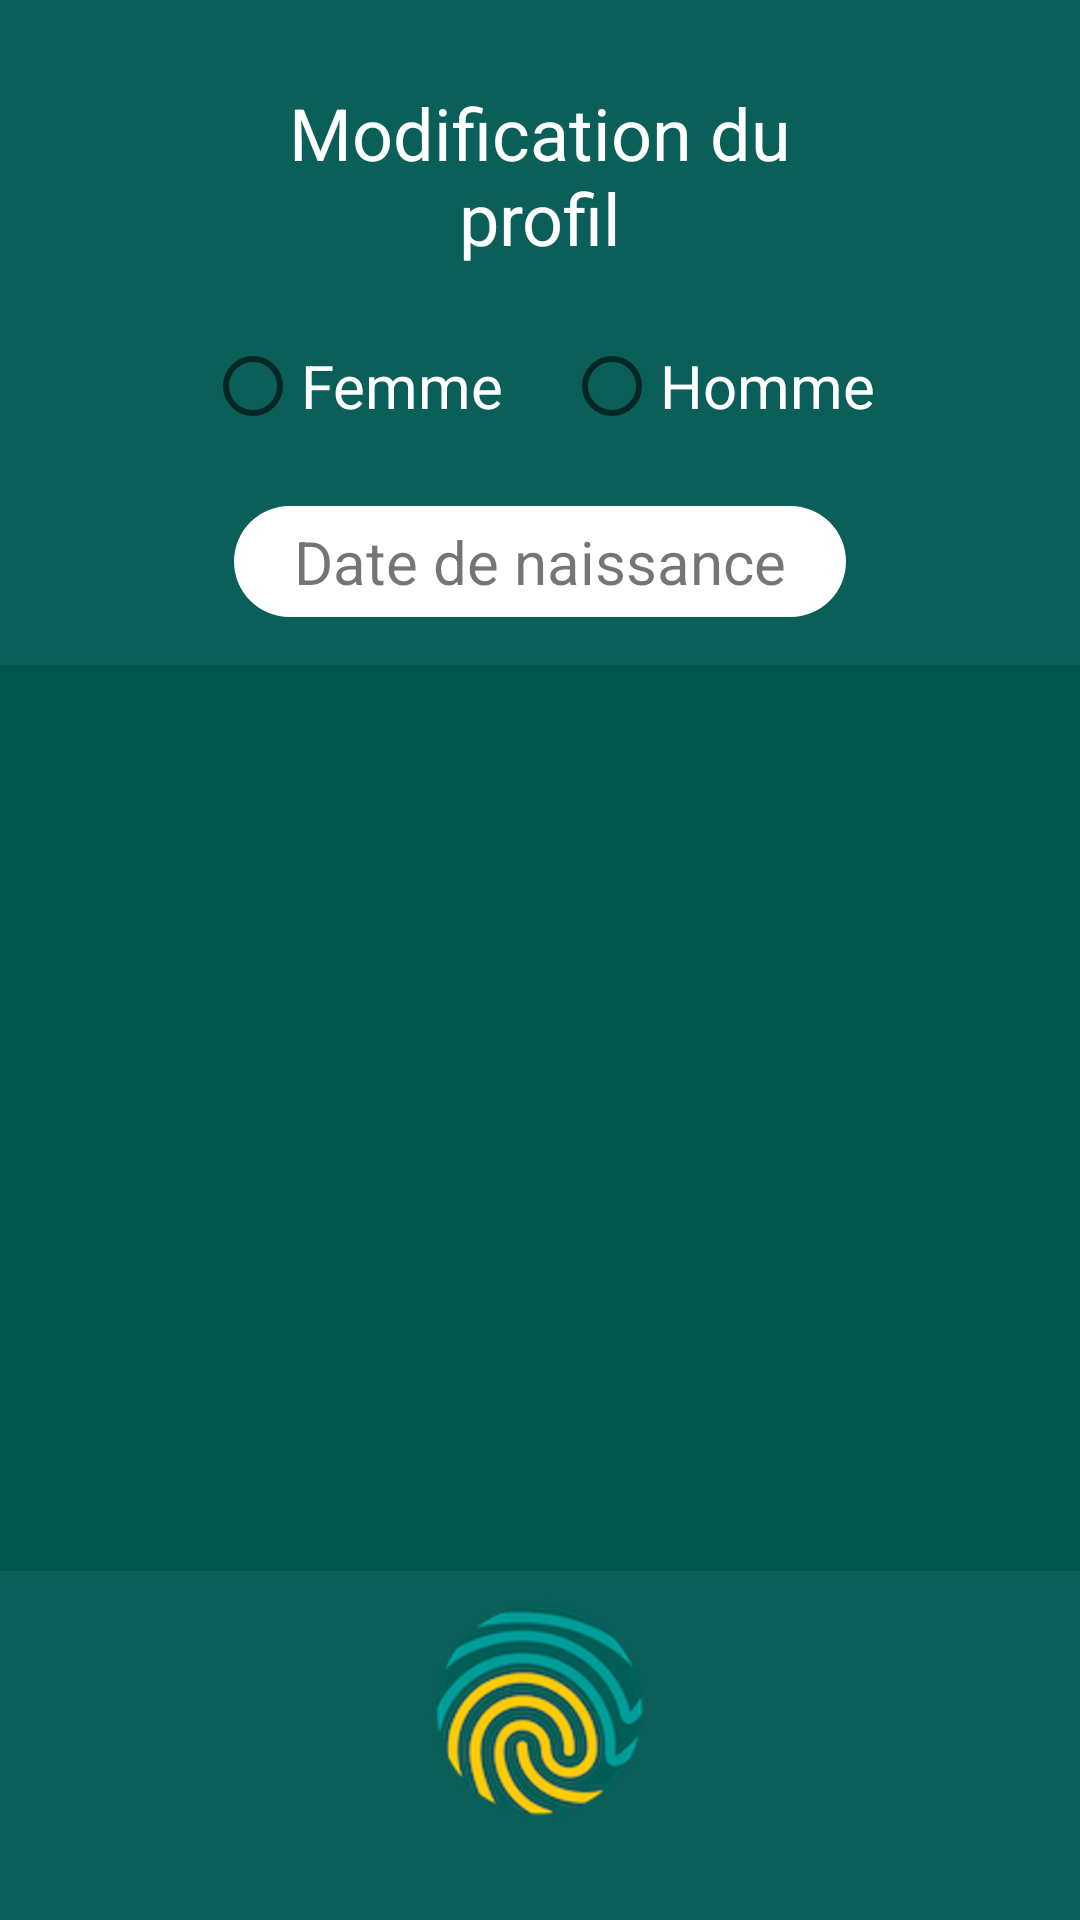

Where icons sit on this 1080×1920 app screen, as (x1, y1, x2, y2):
empreinte: (437, 1612, 642, 1815)
